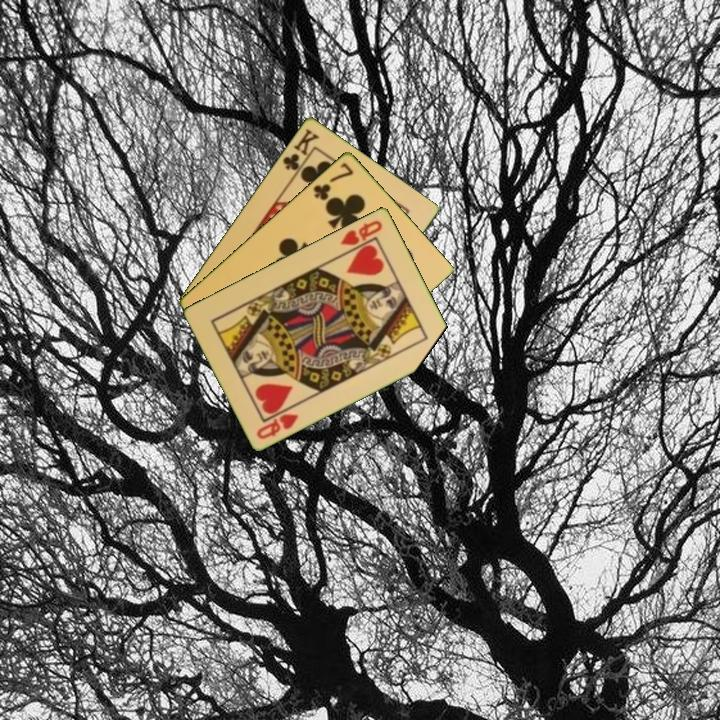7c: (310, 158, 356, 203)
Kc: (279, 124, 322, 179)
Qh: (337, 216, 385, 256), (253, 410, 301, 442)
